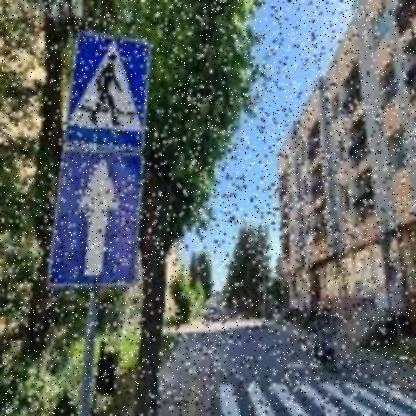Pedestrian Crossing: (70, 34, 148, 148)
